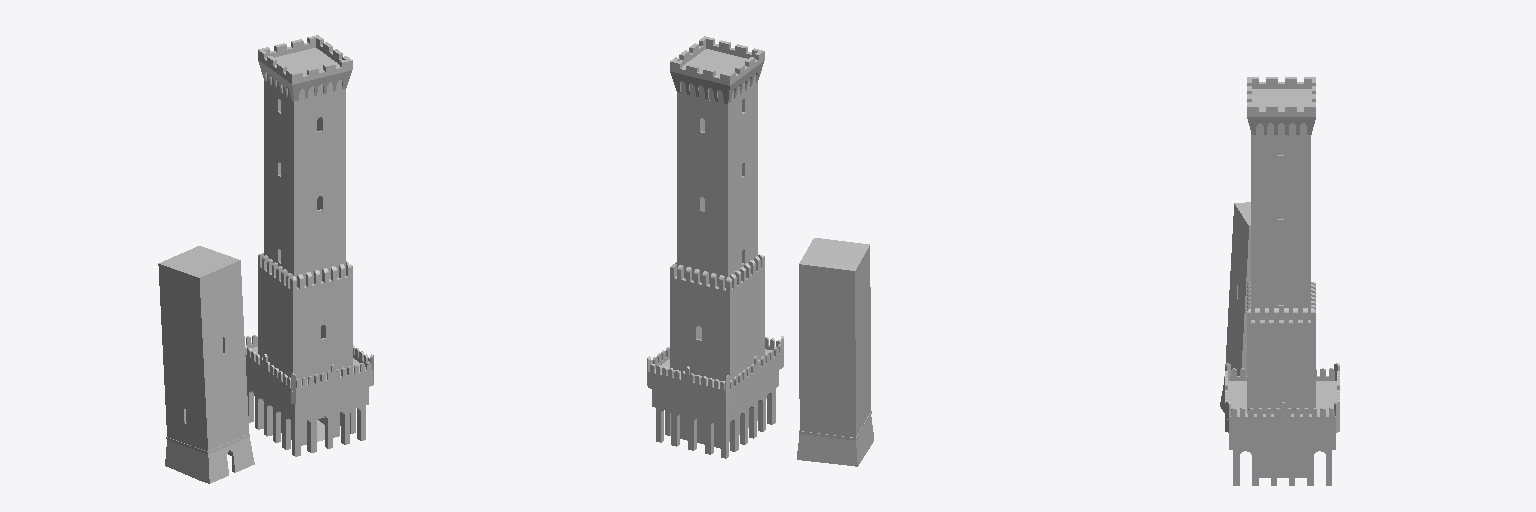
The model's file is TorriMedie.obj.
The picture shows the model from 3 angles: view 1: azimuth 30°, elevation 25°; view 2: azimuth 150°, elevation 25°; view 3: azimuth 270°, elevation 25°; orthographic projection.
Bounding box in the file's own units: 6.69 × 13.02 × 3.78.